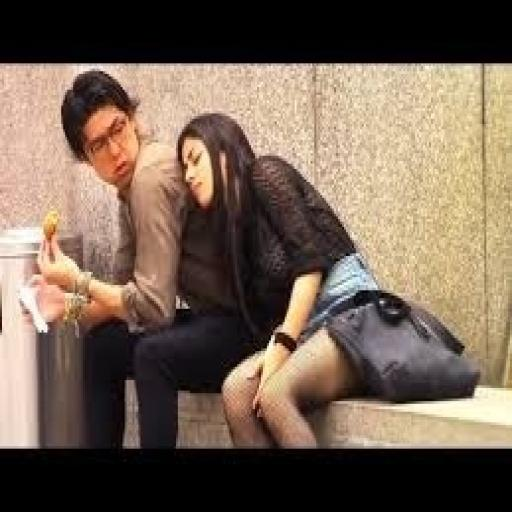sleeping: (166, 126, 458, 468)
